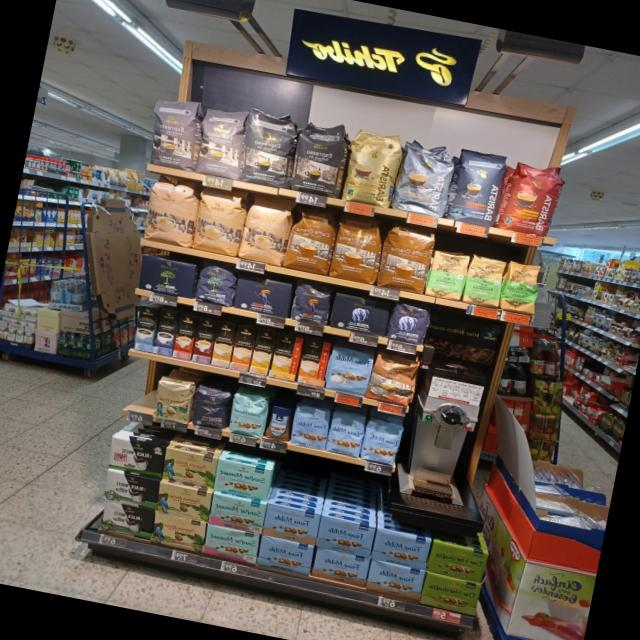AB Bohne: (386, 300, 432, 346)
AB Gemahlen: (328, 292, 392, 338)
Athiopien Bohne: (499, 260, 542, 315)
Athiopien Gemahlen: (425, 248, 471, 302), (462, 254, 507, 308)
BM Bohne: (194, 262, 238, 308)
BM Gemahlen: (135, 254, 198, 299)
BW Gemahlen: (106, 436, 166, 478), (100, 470, 160, 510), (98, 500, 156, 540)
Barista CB: (342, 126, 404, 209)
Barista CC: (392, 136, 455, 218)
Barista Espresso: (446, 147, 510, 228)
Barista Kolumbien: (497, 156, 568, 240)
C Fino Bohne: (189, 386, 231, 432)
CC Mild: (140, 175, 200, 248), (190, 185, 250, 258), (238, 194, 296, 267)
CC Vollmundig: (366, 351, 421, 407)
CC Vollmundig 36 Pads: (376, 220, 438, 296), (328, 211, 387, 286), (282, 203, 340, 276)
Colombia BB Bohne: (152, 376, 196, 425)
Colombia BB Gemahlen: (149, 512, 208, 554), (160, 448, 218, 490), (155, 482, 212, 522)
Espresso M Art: (142, 92, 202, 172), (192, 102, 250, 180)
Espresso S Art: (236, 104, 302, 190), (289, 116, 351, 198)
FM 36 Pads: (323, 342, 375, 398)
FM Bohne: (360, 418, 405, 467), (289, 402, 332, 450), (326, 409, 368, 458)
FM Gemahlen: (364, 559, 426, 602), (371, 527, 432, 570), (315, 515, 376, 558), (262, 504, 322, 546), (310, 548, 370, 588), (256, 535, 314, 576)
FM Instant: (263, 402, 296, 443)
Herzhatfe Mundig: (426, 540, 491, 584), (420, 572, 482, 616)
LG Bohne: (290, 282, 334, 326)
LG Gemahlen: (232, 274, 294, 318)
SM Bohne: (226, 389, 270, 439)
SM Gemahlen: (212, 458, 274, 501), (202, 524, 260, 566), (208, 493, 267, 534)
Simo CCMild: (270, 333, 304, 381)
Simo CCMild bigpack: (249, 329, 277, 376)
Simo CCVollmundig: (296, 338, 332, 387)
Simo CCVollmundig bigpack: (229, 326, 257, 372)
Simo Decaff: (210, 321, 237, 368)
Simo Es Brazil: (172, 313, 198, 360)
Simo Es Caramel: (191, 318, 218, 364)
Simo Es Kraft: (153, 309, 179, 357)
Simo Es Vanilla: (132, 305, 160, 353)
